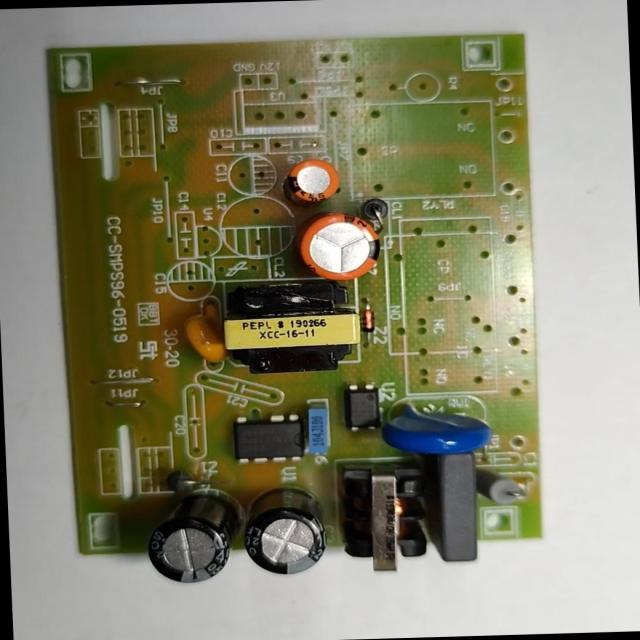Cap1: (297, 210, 382, 282)
Cap2: (288, 154, 342, 203)
Cap3: (242, 484, 330, 578)
Cap4: (144, 491, 243, 586)
MOSFET: (235, 410, 307, 465)
Mov: (378, 398, 494, 457)
Resistor: (476, 464, 524, 506)
Transformer: (222, 278, 361, 379), (340, 466, 431, 578)
